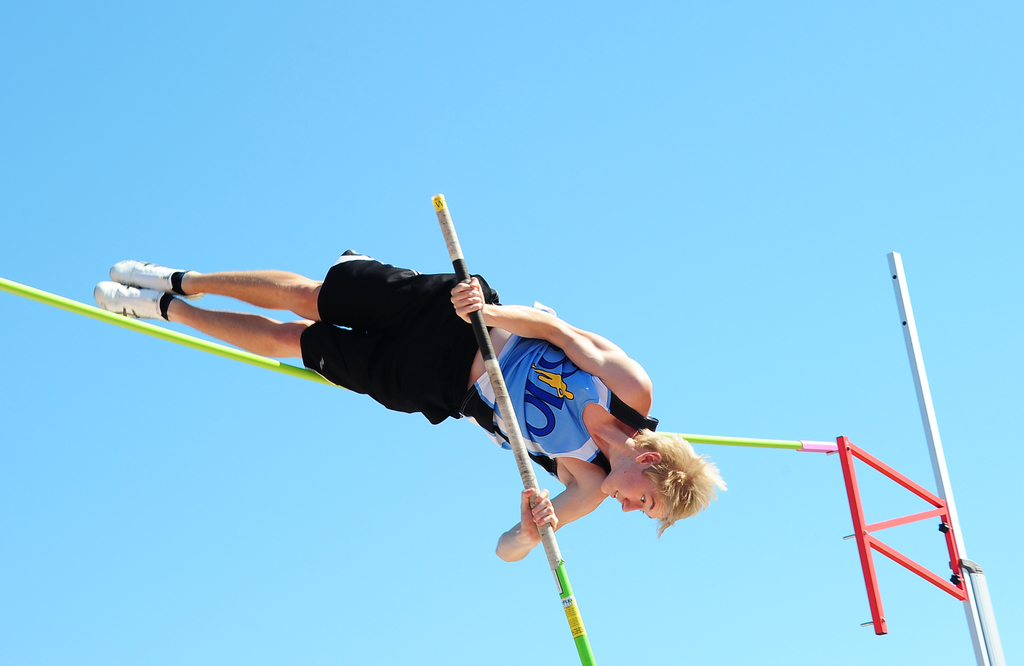Person: (93, 249, 726, 562)
